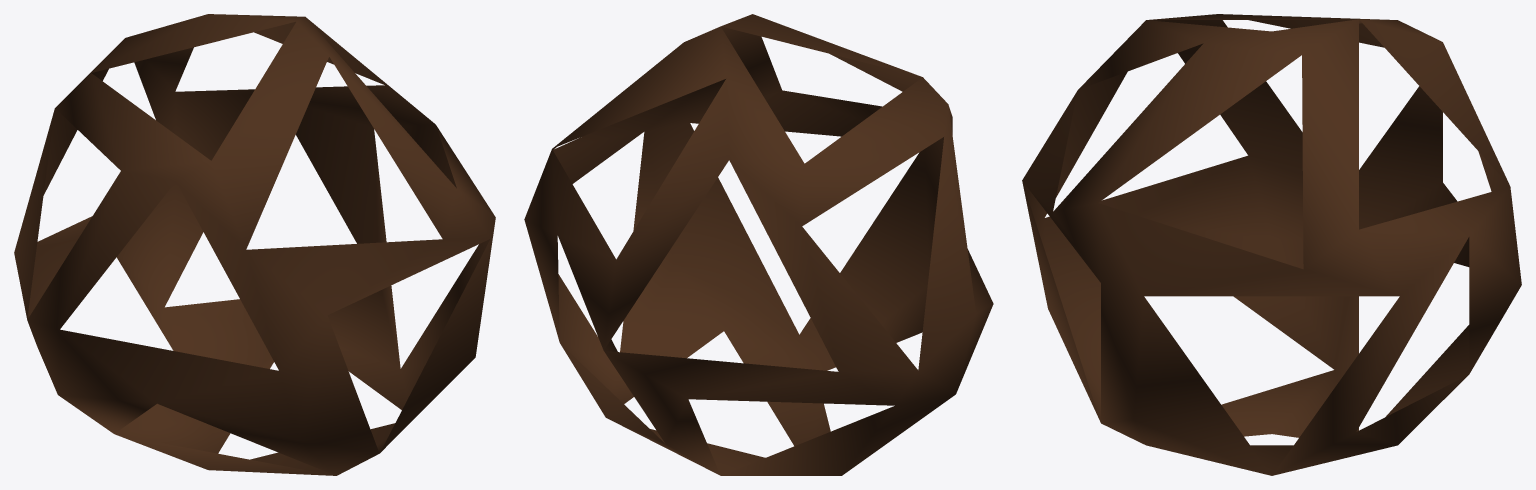
Rendered from Char_VT_FrenzySeed.FBX.
The picture shows the model from 3 angles, left to right: view 1: azimuth 30°, elevation 25°; view 2: azimuth 150°, elevation 25°; view 3: azimuth 270°, elevation 25°; orthographic projection. The views are drawn at different scales.
Visible parts, largest first — view 1: GeoSphere002; view 2: GeoSphere002; view 3: GeoSphere002.
Boxes of the visible parts, x1,y1,x2,y2 form: GeoSphere002: (14,14,495,475); GeoSphere002: (524,14,993,475); GeoSphere002: (1022,14,1521,475).
Size of the model in its own units: 23.78 by 24.13 by 24.39.
